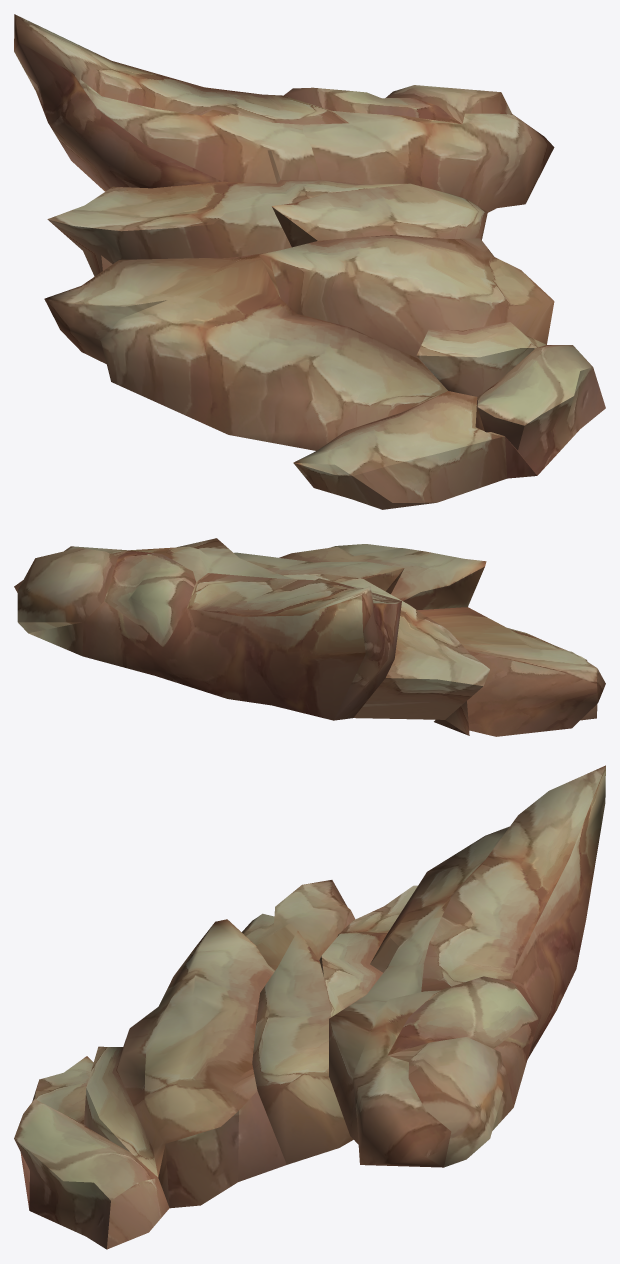
The model's file is Map_11_stone03.FBX.
3 renders of one model, top to bottom at view 1: azimuth 30°, elevation 25°; view 2: azimuth 150°, elevation 25°; view 3: azimuth 270°, elevation 25°, orthographic. The views are drawn at different scales.
Visible parts, largest first — view 1: Map_11_stone03; view 2: Map_11_stone03; view 3: Map_11_stone03.
Part boxes in pixels (x1=…): Map_11_stone03: x1=14, y1=14, x2=605, y2=509; Map_11_stone03: x1=14, y1=538, x2=605, y2=736; Map_11_stone03: x1=14, y1=765, x2=605, y2=1249.
Size of the model in its own units: 627 by 573 by 349.
